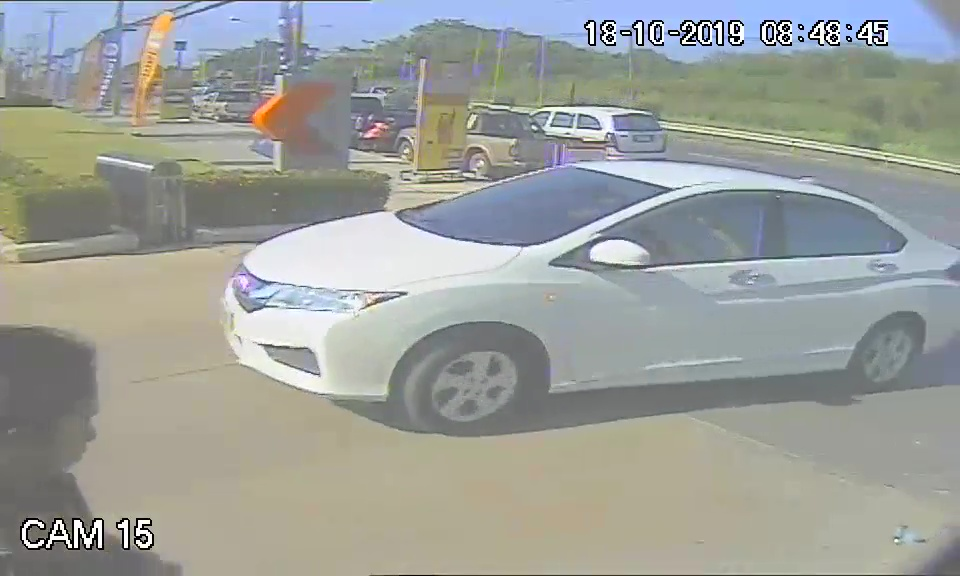sedan: (217, 158, 950, 430)
